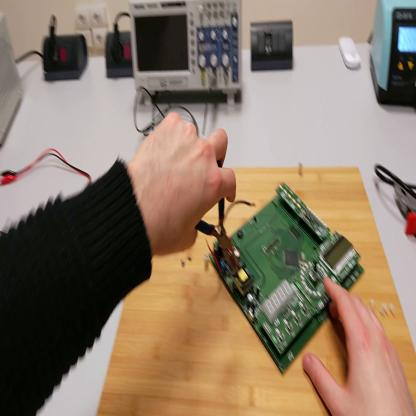hand: (131, 111, 240, 257), (305, 277, 414, 415)
low voltage board: (206, 179, 363, 371)
oscilloscope: (130, 3, 245, 106)
pliers: (196, 161, 235, 269), (393, 185, 416, 237)
power supply: (2, 12, 27, 152)
socket: (44, 36, 90, 83), (106, 30, 135, 79)
welder station: (371, 2, 416, 108)
working area: (96, 165, 416, 414)
